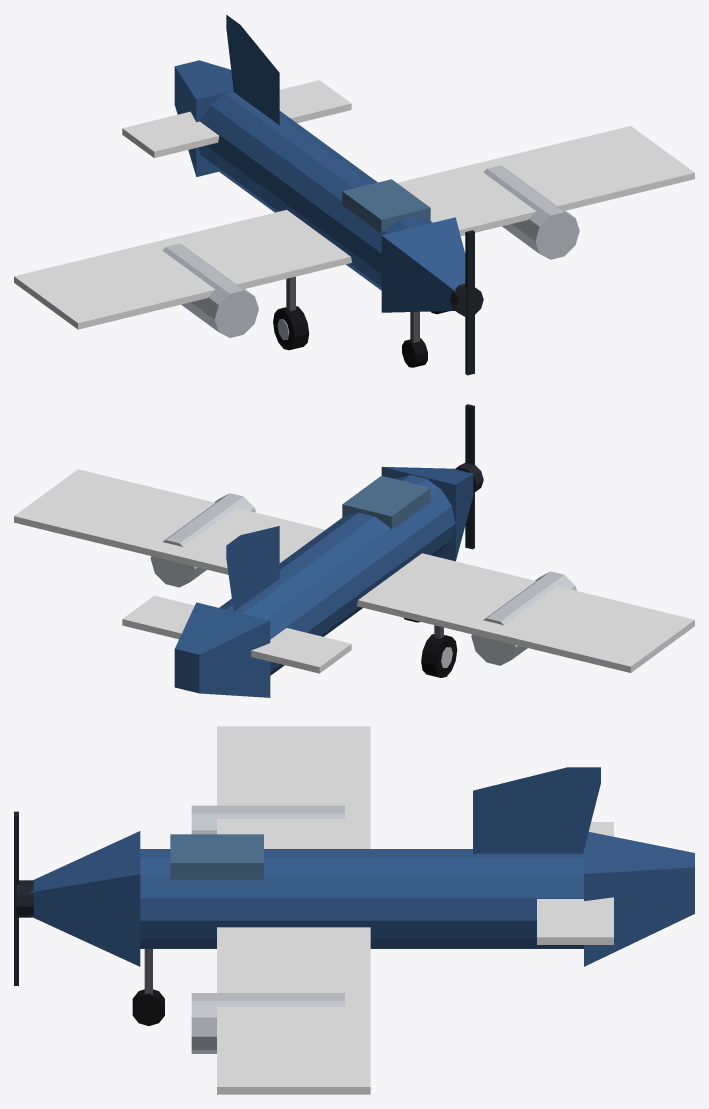
3 views of the same model, one above another, from view 1: azimuth 30°, elevation 25°; view 2: azimuth 150°, elevation 25°; view 3: azimuth 270°, elevation 25° (orthographic). The views are drawn at different scales.
Visible parts, largest first — view 1: wing, fuselage, nose, stabilizer, engine_r, engine_l, fin, tail_cone, cockpit, blade, tire, nose_tire (+1 smaller); view 2: wing, fuselage, tail_cone, stabilizer, fin, cockpit, nose, engine_l, engine_r, tire, blade; view 3: wing, fuselage, tail_cone, nose, fin, cockpit, stabilizer, engine_r, engine_l, nose_tire, blade, spinner.
Part boxes in pixels (left/top/right/bottom): wing: left=14, top=126, right=694, bottom=329; fuselage: left=198, top=91, right=432, bottom=290; nose: left=381, top=217, right=465, bottom=312; stabilizer: left=122, top=80, right=351, bottom=157; engine_r: left=483, top=165, right=579, bottom=259; engine_l: left=162, top=243, right=258, bottom=337; fin: left=226, top=15, right=279, bottom=125; tail_cone: left=174, top=60, right=233, bottom=176; cockpit: left=342, top=179, right=430, bottom=233; blade: left=465, top=230, right=474, bottom=375; tire: left=273, top=306, right=449, bottom=350; nose_tire: left=402, top=338, right=427, bottom=367; wing: left=14, top=469, right=694, bottom=672; fuselage: left=219, top=475, right=455, bottom=675; tail_cone: left=174, top=602, right=270, bottom=697; stabilizer: left=122, top=595, right=351, bottom=673; fin: left=226, top=526, right=279, bottom=611; cockpit: left=342, top=475, right=430, bottom=529; nose: left=381, top=467, right=473, bottom=561; engine_l: left=471, top=571, right=576, bottom=665; engine_r: left=150, top=493, right=255, bottom=587; tire: left=421, top=634, right=457, bottom=677; blade: left=465, top=404, right=474, bottom=549; wing: left=217, top=726, right=370, bottom=1094; fuselage: left=140, top=849, right=583, bottom=948; tail_cone: left=584, top=832, right=694, bottom=966; nose: left=29, top=831, right=140, bottom=966; fin: left=473, top=767, right=600, bottom=853; cockpit: left=170, top=834, right=263, bottom=879; stabilizer: left=537, top=822, right=613, bottom=944; engine_r: left=191, top=993, right=344, bottom=1053; engine_l: left=191, top=805, right=344, bottom=834; nose_tire: left=132, top=989, right=164, bottom=1025; blade: left=14, top=811, right=18, bottom=985; spinner: left=16, top=880, right=33, bottom=917.
Bounding box in the file's own units: 10 × 3.3 × 7.98.
